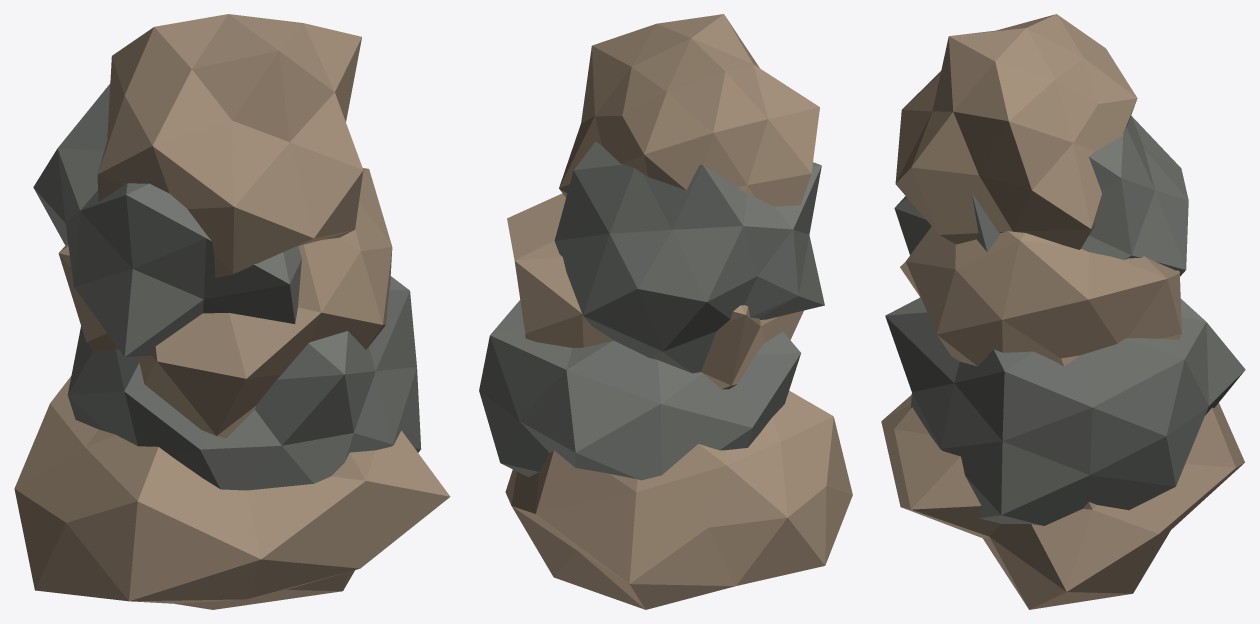
File: cliff-chunk.glb
3 renders of one model, left to right at view 1: azimuth 30°, elevation 25°; view 2: azimuth 150°, elevation 25°; view 3: azimuth 270°, elevation 25°, orthographic. The views are drawn at different scales.
Parts seen in each view (by area): view 1: cliff; view 2: cliff; view 3: cliff.
Part boxes in pixels (box(x1,y1,x2,y2)): cliff: box(14, 14, 450, 609); cliff: box(479, 14, 852, 609); cliff: box(881, 14, 1245, 609).
Bounding box in the file's own units: 7.01 × 11.29 × 6.93.
